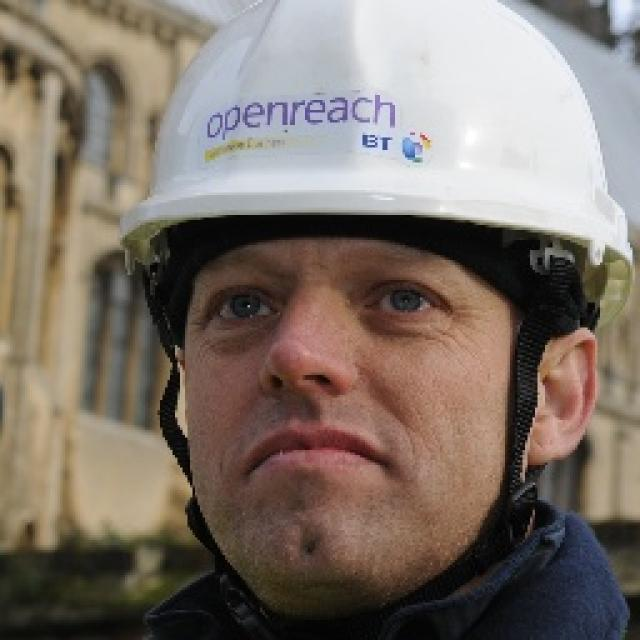earlobe: (529, 328, 599, 466)
